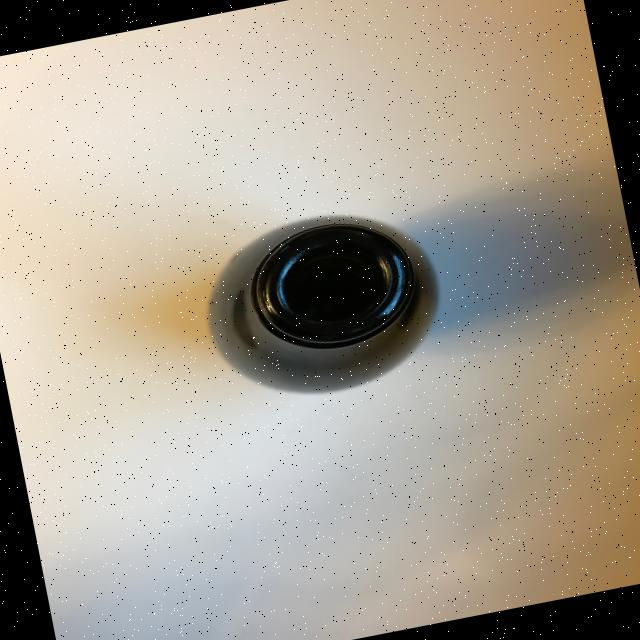glass: (185, 192, 456, 416)
